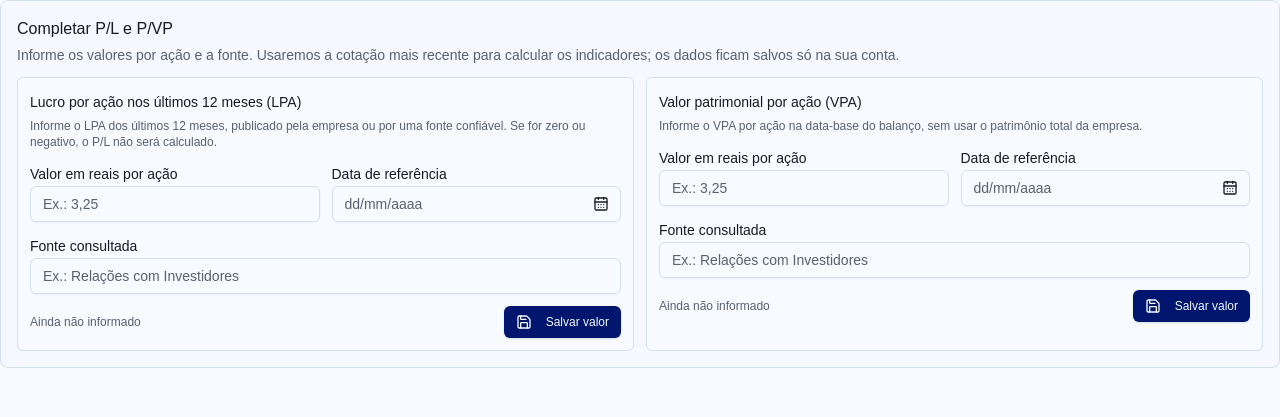
ManualStockValuationInputs › uses a safe fallback when a save rejects with a non-Error value
The image size is (1280, 417).
Expected: the heading "Completar P/L e P/VP" is shown, [17,20,173,37]
In the number field labelled "Lucro por ação nos últimos 12 meses (LPA)": (175, 204) [30,186,320,222], type "3.25"
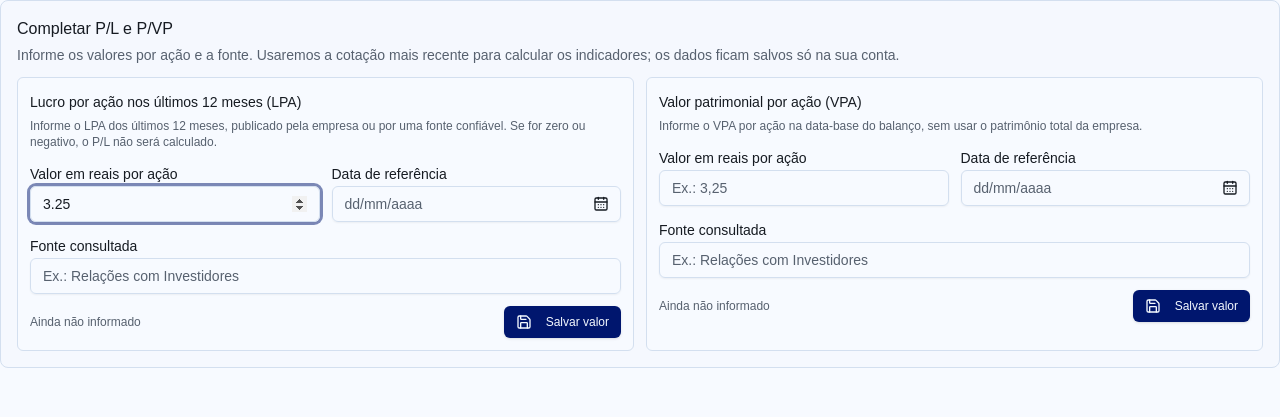
In the 2nd field labelled "Fonte consultada": (326, 276) [30,258,621,294], type "Fonte"
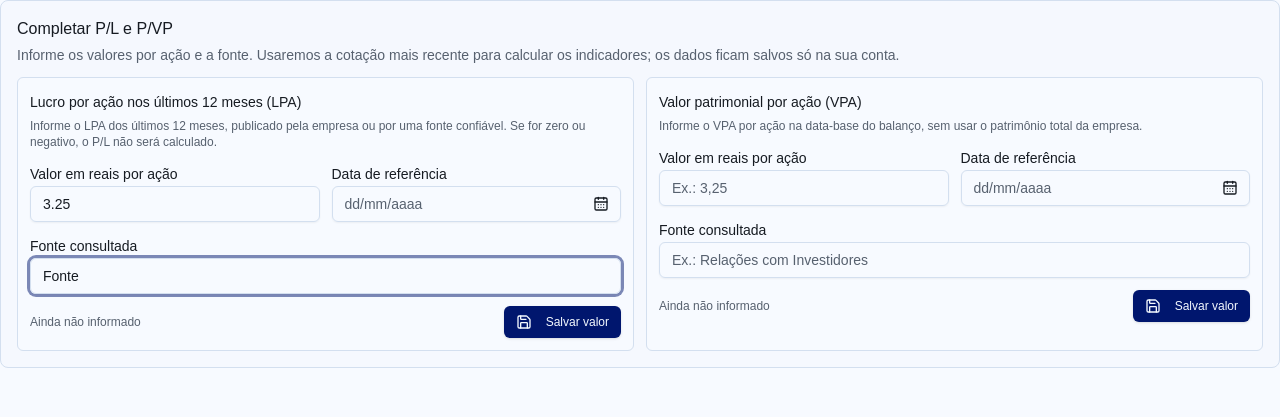
In the 2nd field with placeholder "dd/mm/aaaa": (476, 204) [332,186,621,222], type "31/12/2025"
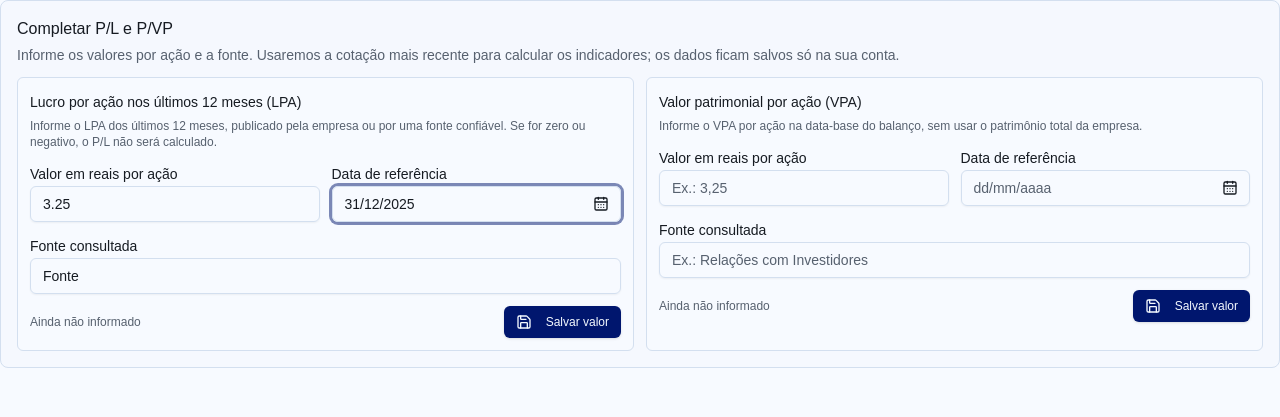
Click the 2nd button "Salvar valor": (562, 322) [504,306,621,338]
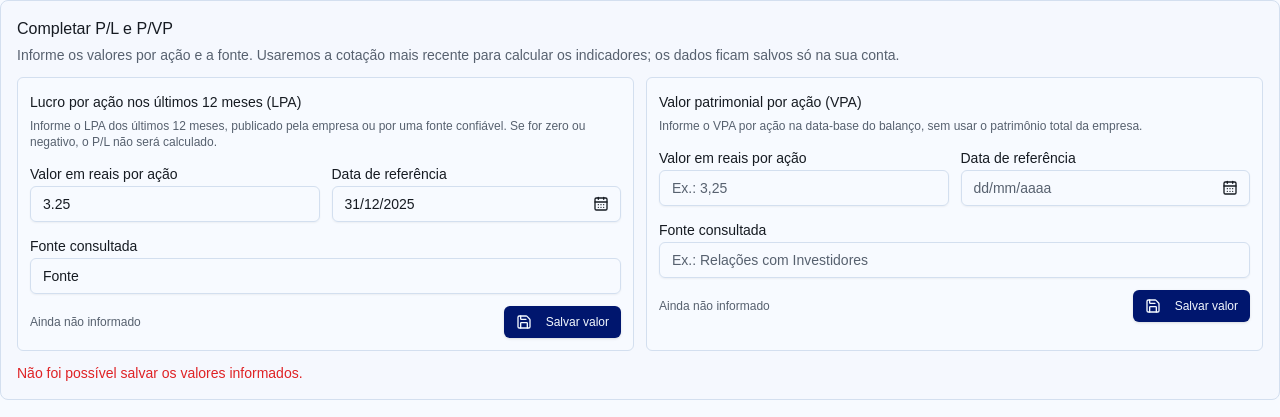
Now the message reads "Não foi possível salvar os valores informados.", box [17,365,303,381]
